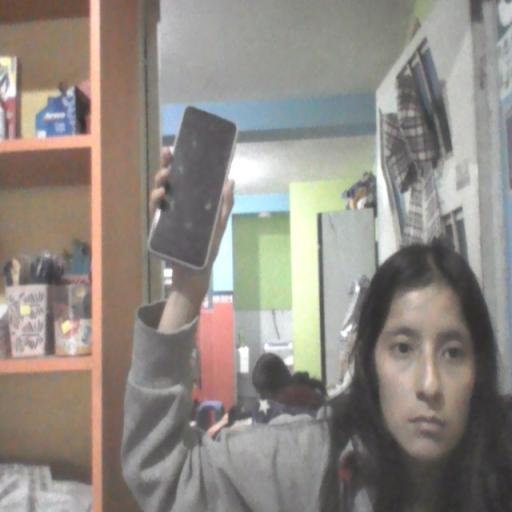phone: (144, 98, 238, 277)
